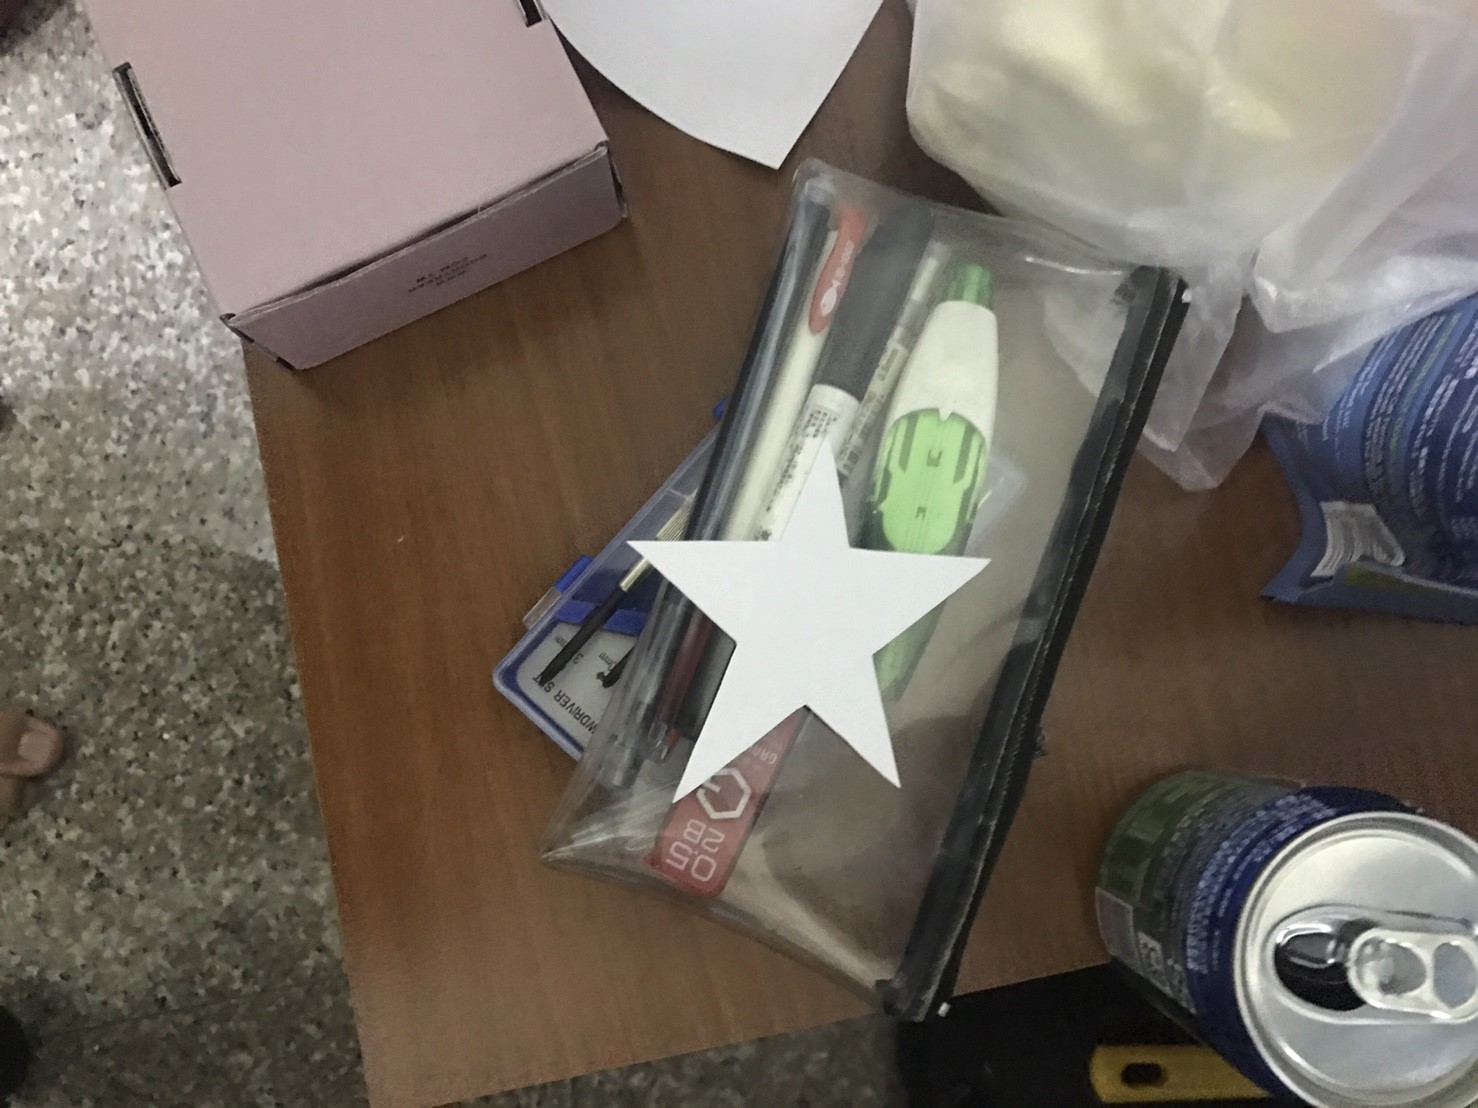star: (607, 426, 992, 832)
